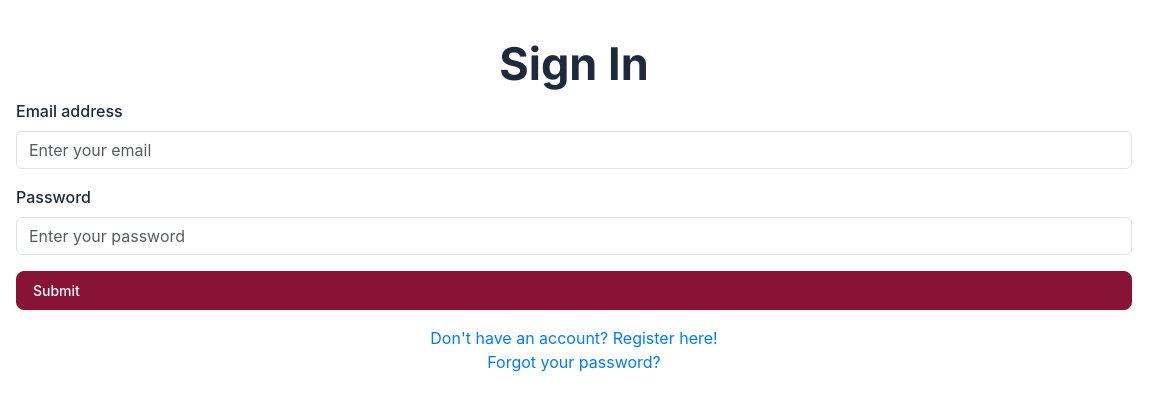
LoginPage › displays validation error when form is invalid
Type "invalid-email" into the field with placeholder "Enter your email". click: (574, 150)
box: [16,131,1132,169]
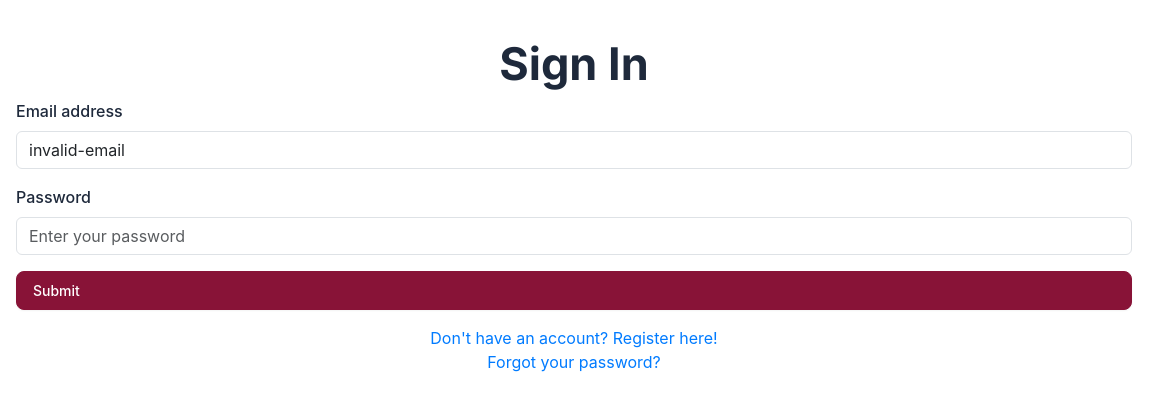
Type "123" into the password field with placeholder "Enter your password". click: (574, 236)
box: [16,217,1132,255]
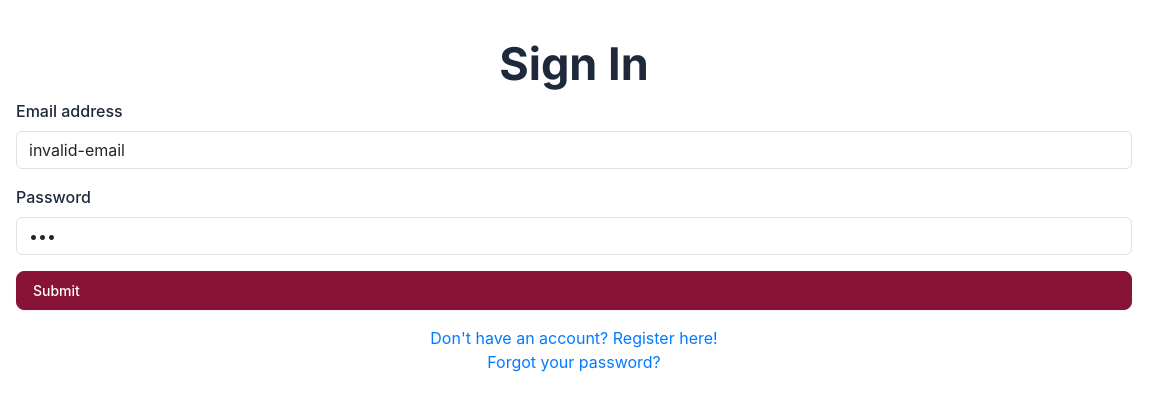
Submit the form "Email address Password Submit", box [16,99,1132,310]
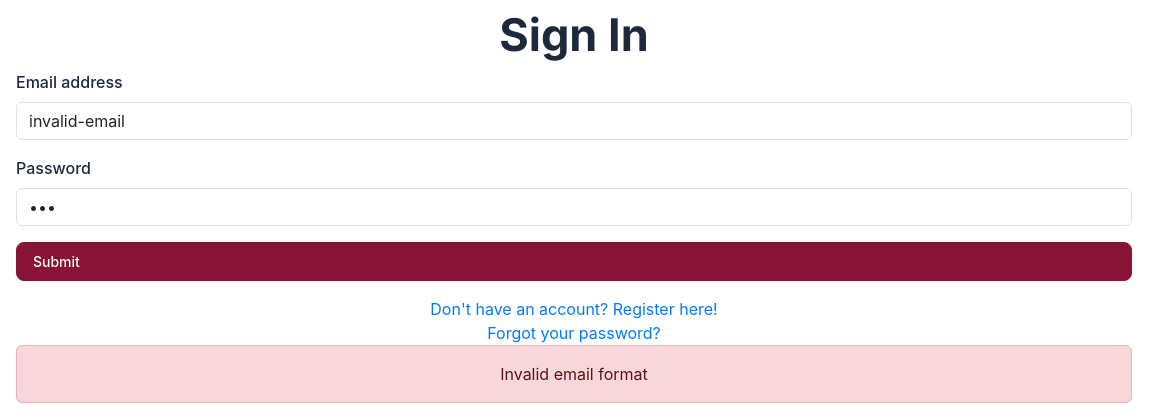
Check: the text "Invalid email format" is shown, box [16,345,1132,403]
